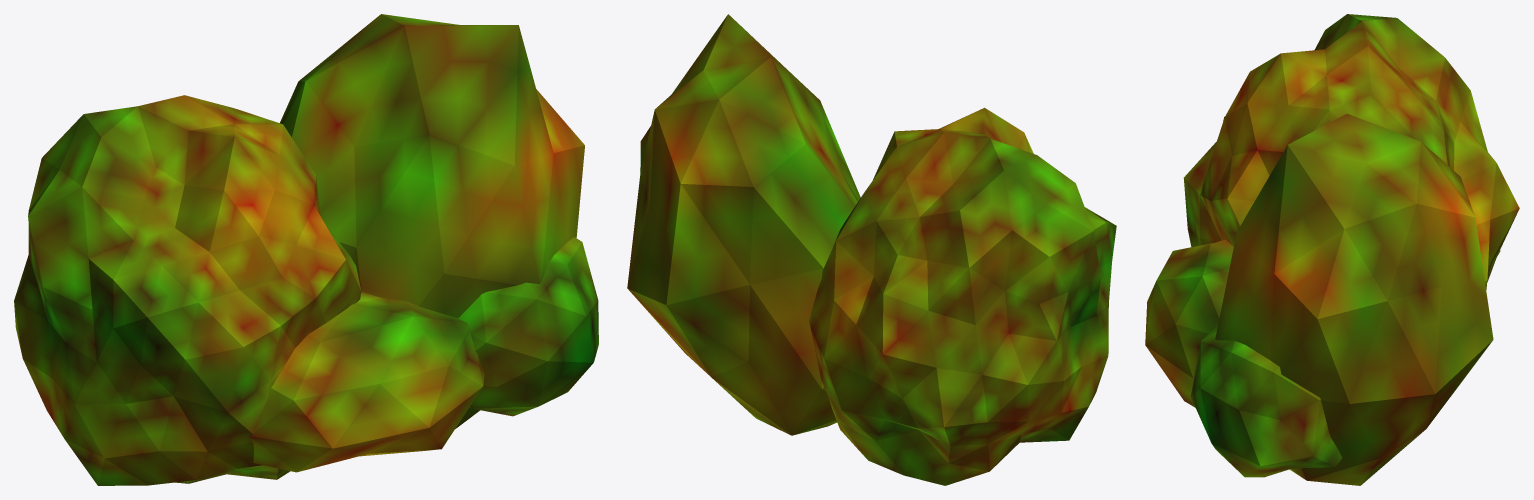
Rendered from 大型金矿_02_双峰.fbx.
3 views of the same model, side by side, from view 1: azimuth 30°, elevation 25°; view 2: azimuth 150°, elevation 25°; view 3: azimuth 270°, elevation 25° (orthographic). The views are drawn at different scales.
Parts seen in each view (by area): view 1: GoldOre_Large_02; view 2: GoldOre_Large_02; view 3: GoldOre_Large_02.
Boxes of the visible parts, x1,y1,x2,y2 form: GoldOre_Large_02: (14,14,598,485); GoldOre_Large_02: (627,14,1116,485); GoldOre_Large_02: (1145,14,1519,485).
Bounding box in the file's own units: 1.63 × 1.2 × 1.09.
